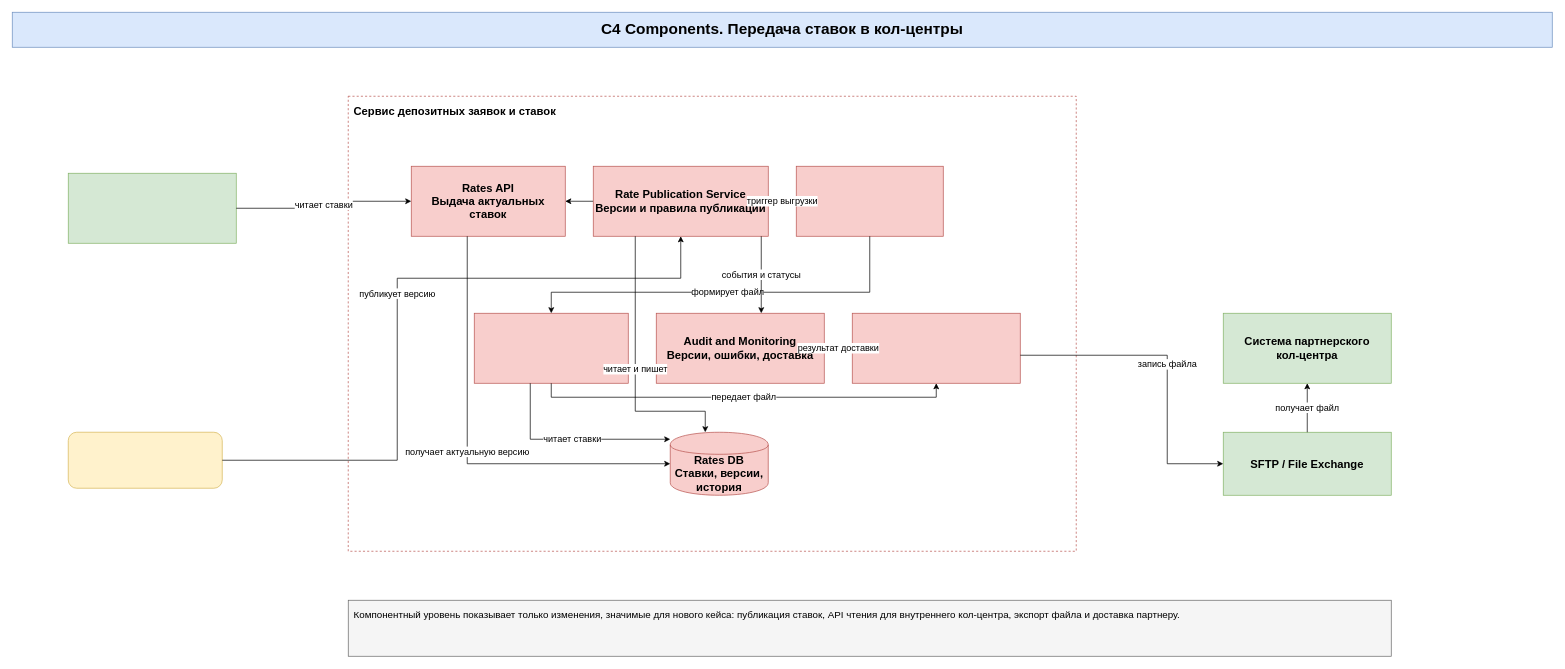
The diagram is 1565 pixels wide and 669 high, and some of its shapes have lost their labels. Each missing label, with the box of its shape:
Export Scheduler Планирование выгрузки: (796, 166, 943, 236)
File Generator CSV/XML файл ставок: (474, 313, 628, 383)
SFTP Client / File Exchange Adapter: (852, 313, 1020, 383)
Бэк-офис депозитов: (68, 432, 222, 488)
Система кол-центра Rate Widget / UI: (68, 173, 236, 243)
